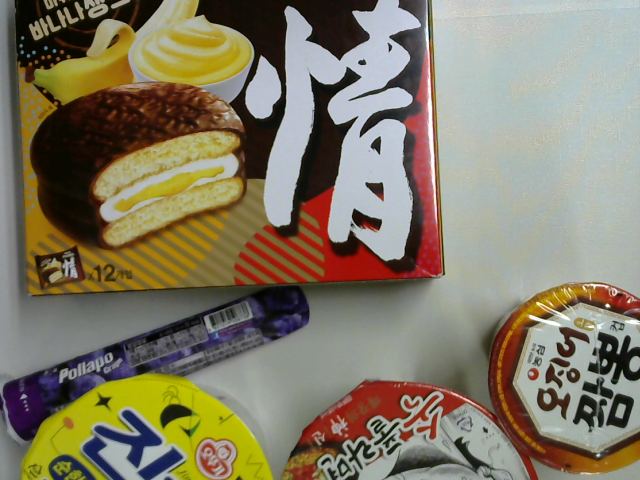Choco_Pie_Banana: (3, 1, 454, 298)
Hejangpul: (278, 375, 543, 480)
Jinlamyeon_Mild_Taste_Large_Cup: (22, 372, 279, 480)
Ojjam: (486, 279, 639, 480)
Polapo_Grape: (1, 278, 315, 453)
